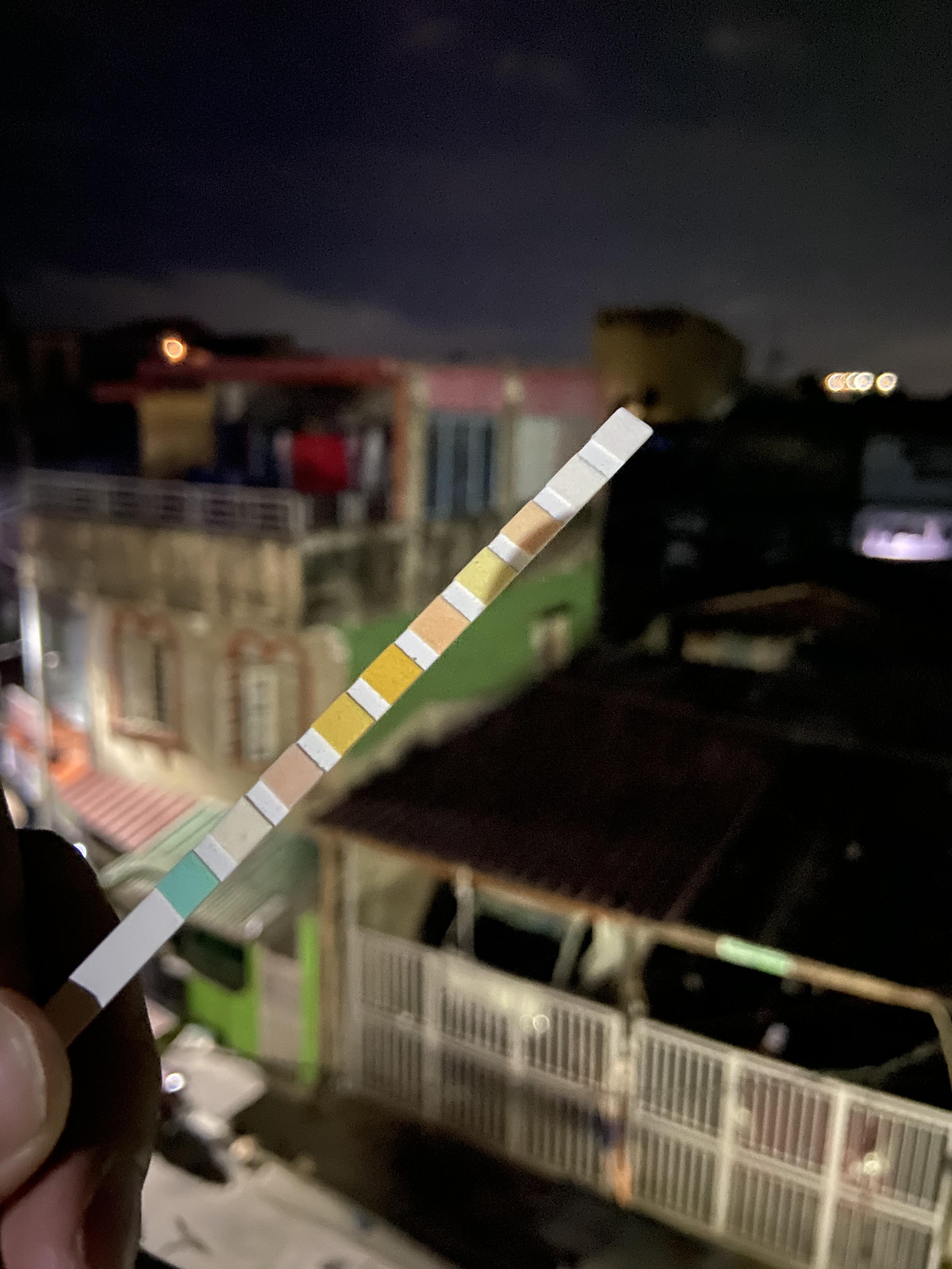Bilirubin: (225, 816, 256, 845)
Blood: (376, 658, 408, 690)
Glucose: (173, 871, 204, 902)
Ketone: (277, 759, 306, 792)
Leukocytes: (604, 423, 636, 449)
Nitrite: (562, 466, 590, 496)
Protein: (469, 561, 503, 592)
SpGravity: (327, 708, 359, 740)
Urobilinogen: (515, 515, 544, 545)
pH: (424, 609, 453, 641)
strip: (70, 407, 653, 1009)
